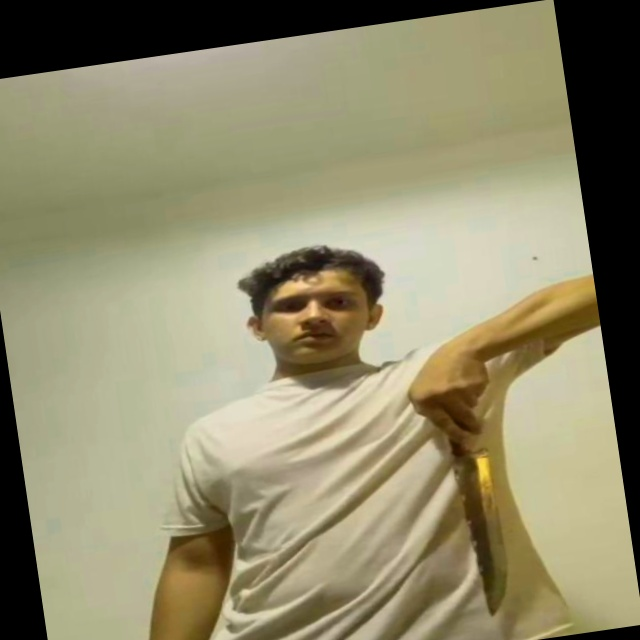Sharp-Object: (447, 439, 524, 621)
